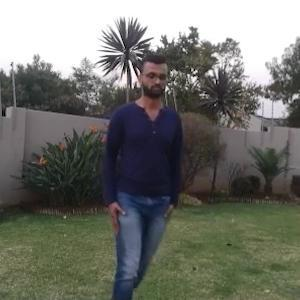follow: (105, 62, 166, 299)
